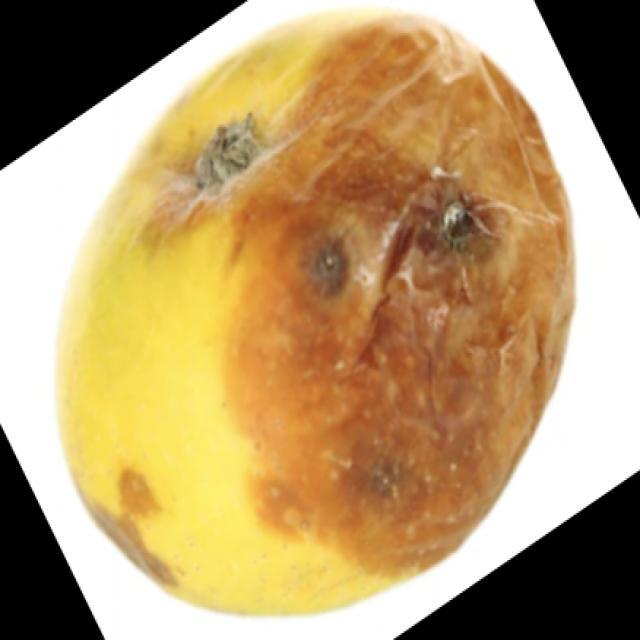Rotten: (61, 17, 592, 610)
